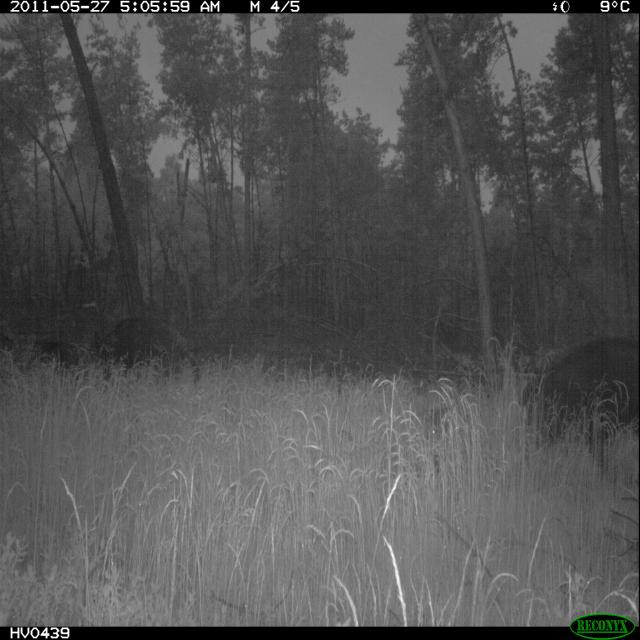boar: (486, 316, 640, 482)
